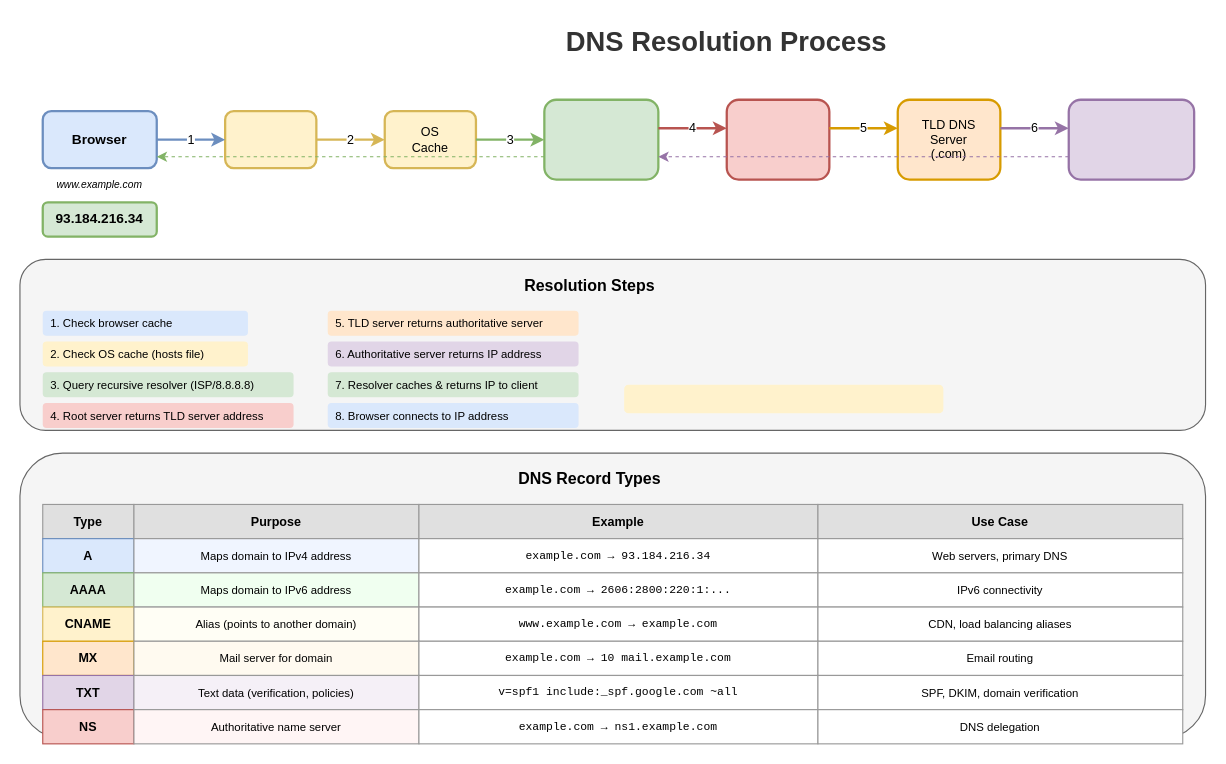
The diagram is 1226 pixels wide and 764 high, and some of its shapes have lost their labels. Each missing label, with the centre of its shape:
"Authoritative DNS Server (example.com)" goes at [1131,139].
"Browser Cache" goes at [270,139].
"Caching: Most queries resolved from cache (TTL-based)" goes at [783,398].
"Recursive Resolver (ISP/Public)" goes at [601,139].
"Root DNS Server (.)" goes at [777,139].
